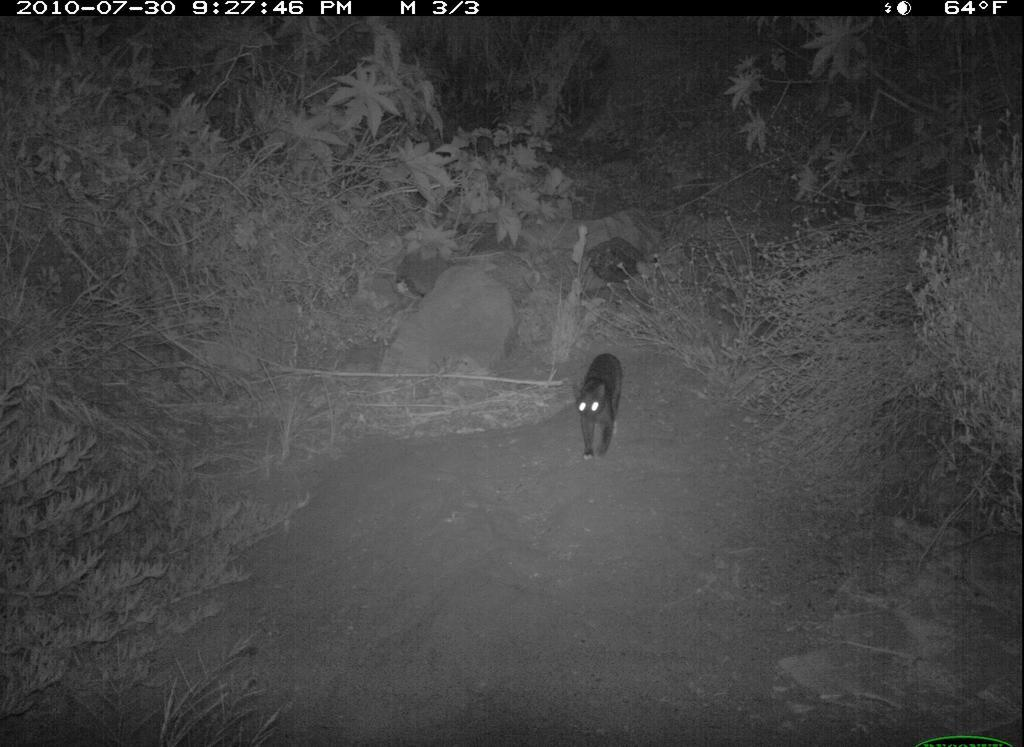cat: (562, 347, 632, 477)
